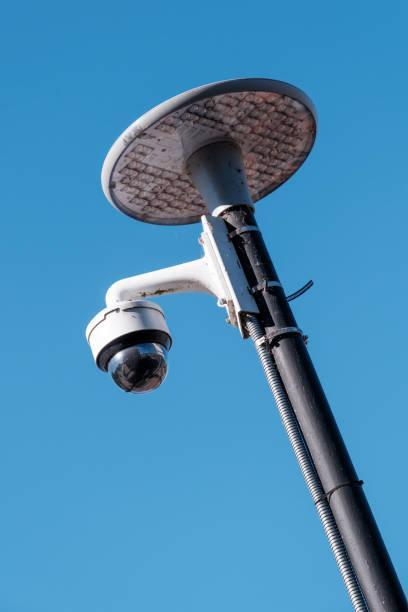camera: (42, 270, 198, 412)
